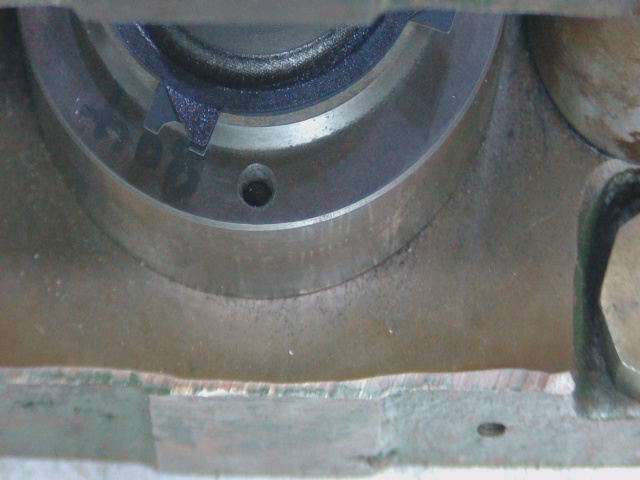OK: (143, 82, 229, 164)
